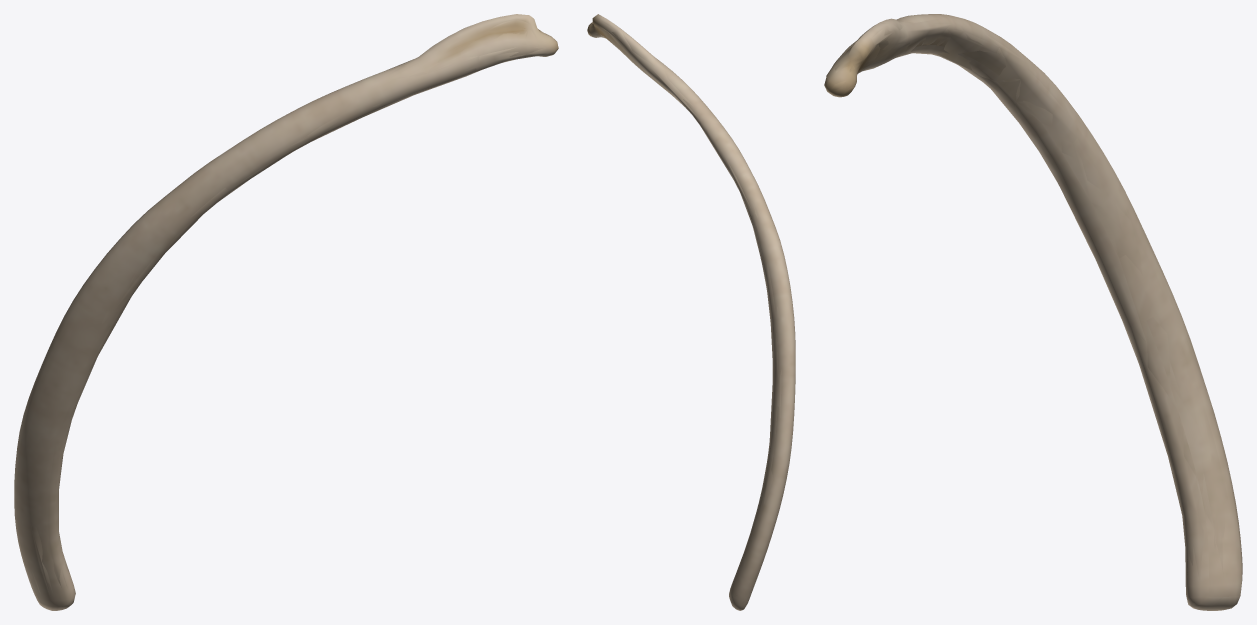
File: Rib R13.fbx
3 renders of one model, left to right at view 1: azimuth 30°, elevation 25°; view 2: azimuth 150°, elevation 25°; view 3: azimuth 270°, elevation 25°, orthographic. The views are drawn at different scales.
Visible parts, largest first — view 1: Rib R13, Rib R13 low; view 2: Rib R13, Rib R13 low; view 3: Rib R13 low, Rib R13.
Boxes of the visible parts, x1,y1,x2,y2 form: Rib R13: (14,14,558,610); Rib R13 low: (19,15,552,608); Rib R13: (587,14,795,610); Rib R13 low: (587,16,792,610); Rib R13 low: (824,15,1242,607); Rib R13: (824,14,1242,610).
Bounding box in the file's own units: 25.98 × 38.12 × 18.6.
Materials: 1 (1 with a texture image).
